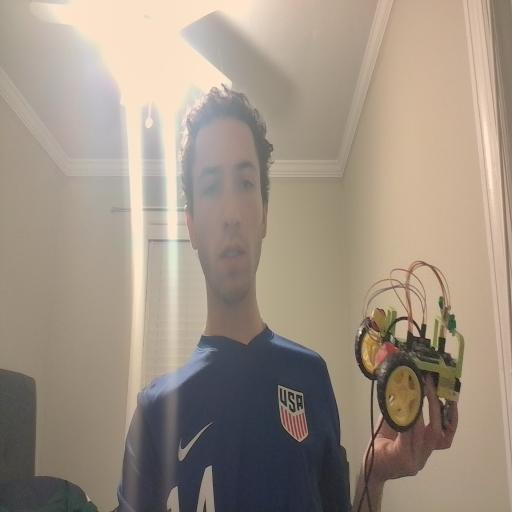green LEGO minifig: (439, 294, 457, 336)
